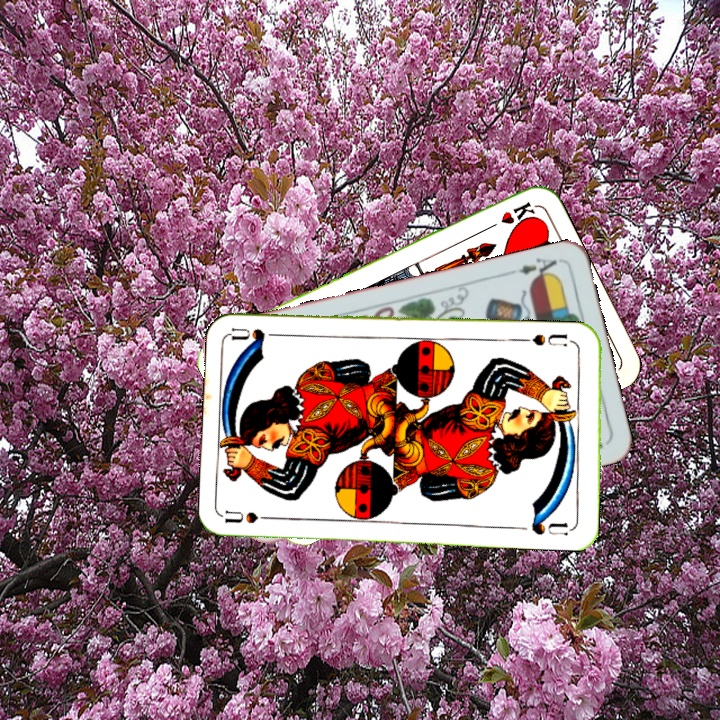EA: (504, 253, 563, 283)
HK: (480, 198, 538, 234)
SU: (519, 330, 578, 349), (223, 507, 282, 526)
